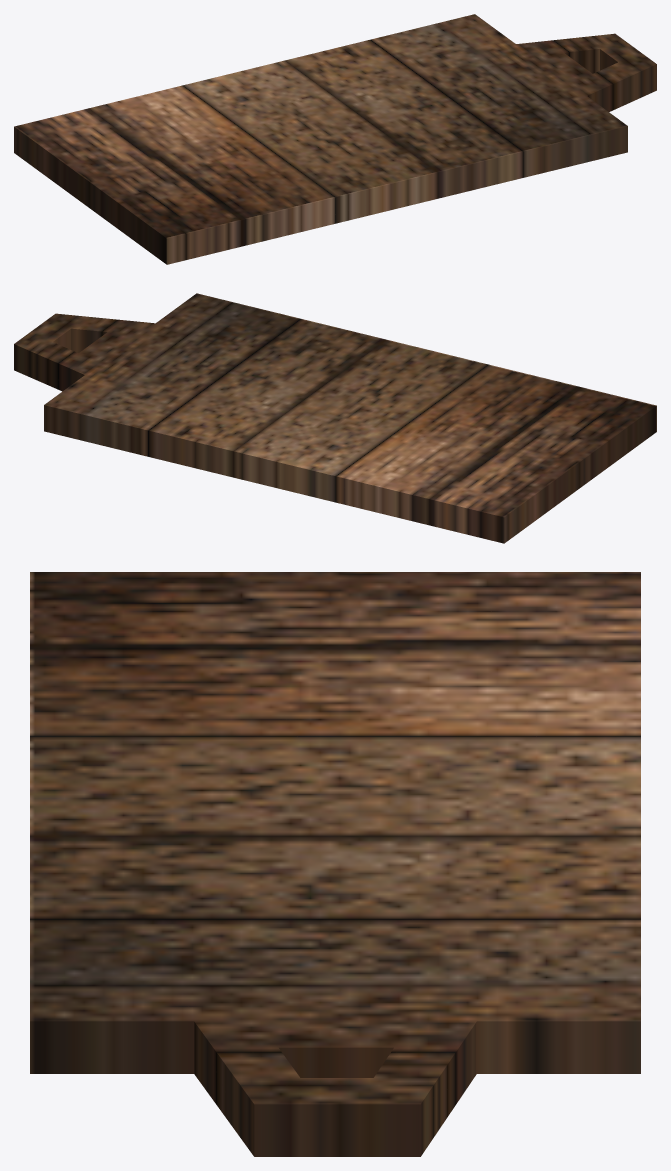
The model's file is board1.FBX.
3 views of the same model, one above another, from view 1: azimuth 30°, elevation 25°; view 2: azimuth 150°, elevation 25°; view 3: azimuth 270°, elevation 25° (orthographic). The views are drawn at different scales.
Parts seen in each view (by area): view 1: Box001; view 2: Box001; view 3: Box001.
Part boxes in pixels (<box>): Box001: <box>14,14,656,264</box>; Box001: <box>14,293,656,543</box>; Box001: <box>30,572,640,1156</box>.
Bounding box in the file's own units: 114 × 5.26 × 55.41.
1 material, 1 textured.
